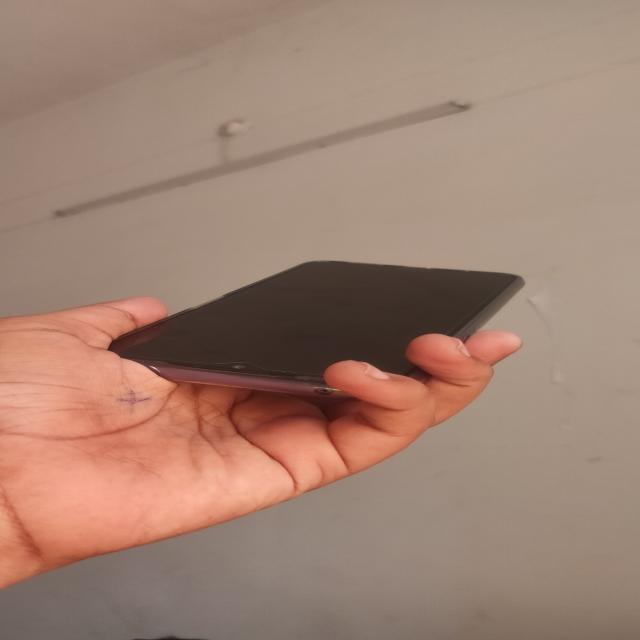Phone: (104, 259, 532, 407)
